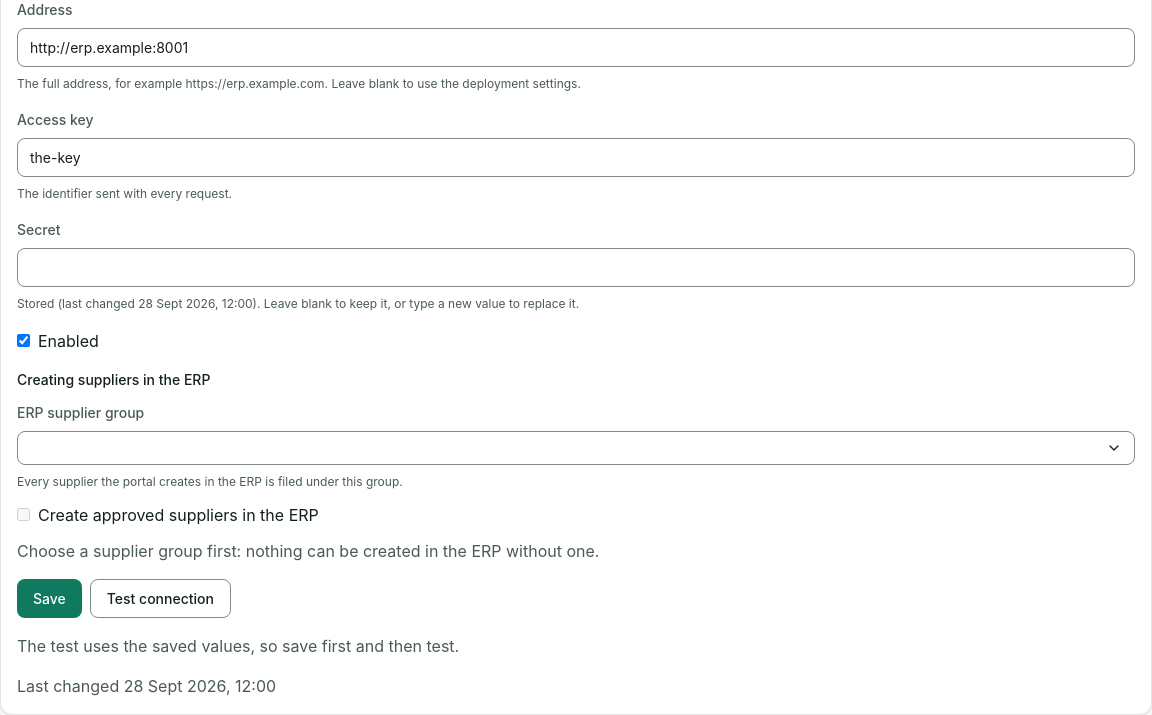
Test: IntegrationsPage › reports a failed test as an answer and keeps the other system its own words
(page scrolled)
Click the button "Test connection": (160, 598) [90,578,231,618]
(page scrolled)
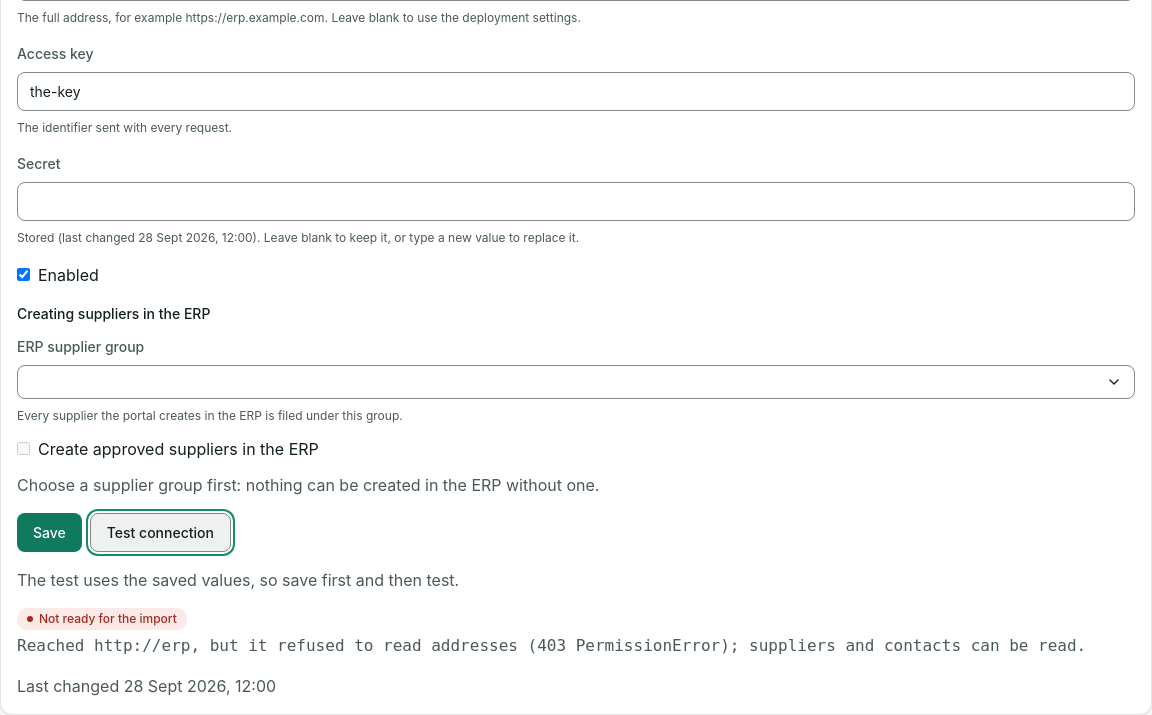
Check: the text "Not ready for the import" is shown, box [17,608,187,630]
Check: the text "PermissionError" is shown, box [17,636,1086,654]
